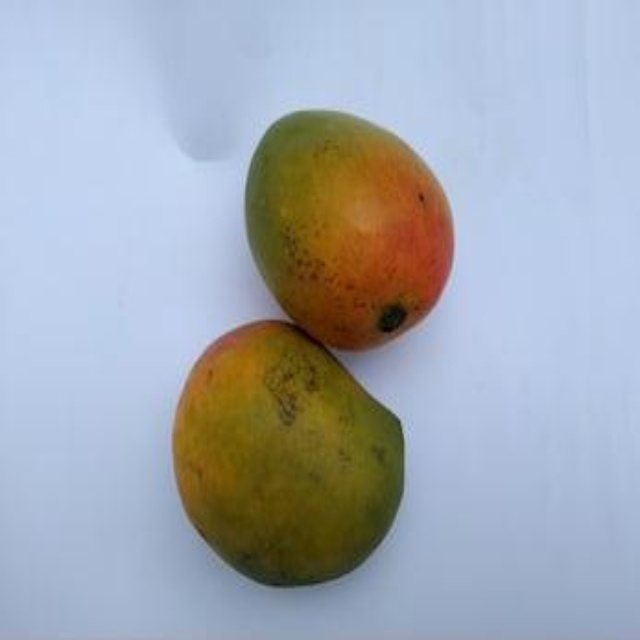mango: (165, 320, 427, 589), (249, 112, 460, 351)
